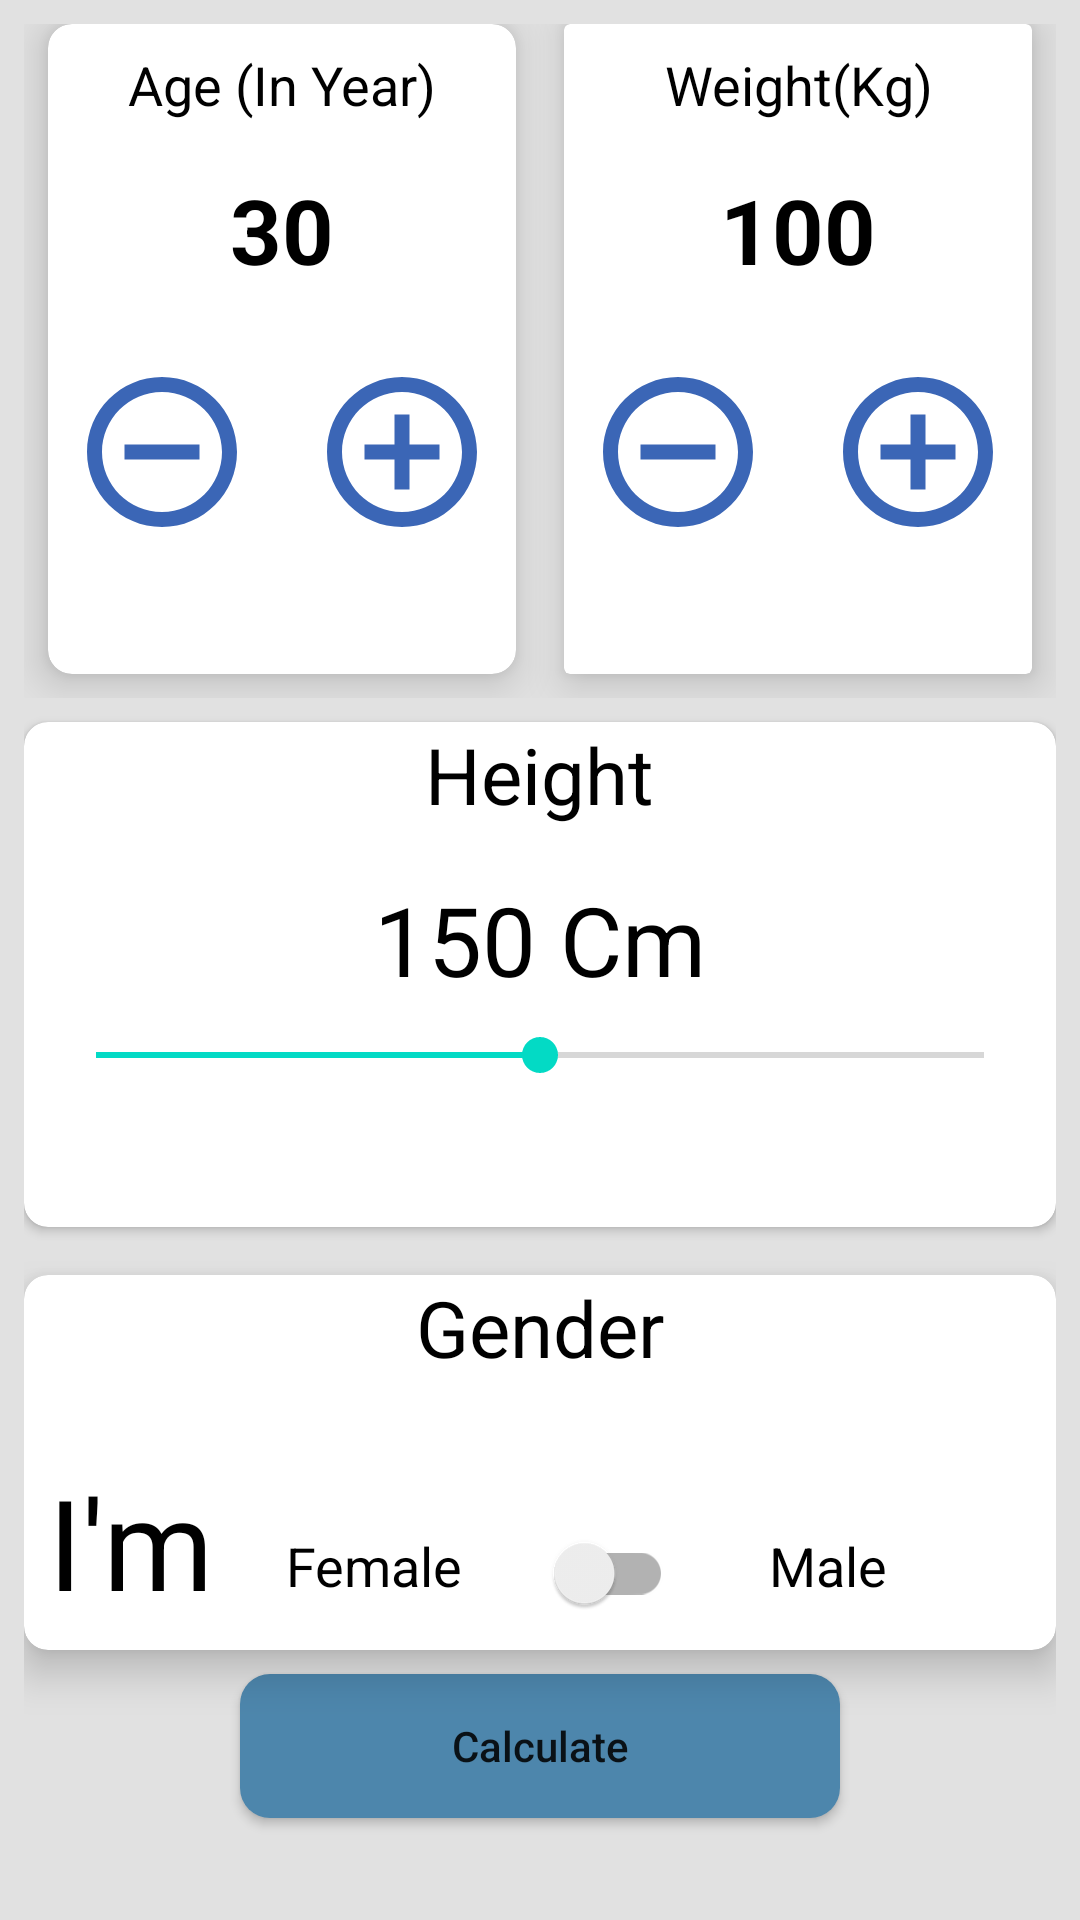

Where icons sit on this 1080w x 1920h app screen, as (x1, y1, x2, y2):
add: (327, 377, 477, 527), (843, 377, 993, 527)
remove: (87, 377, 237, 527), (603, 377, 753, 527)
